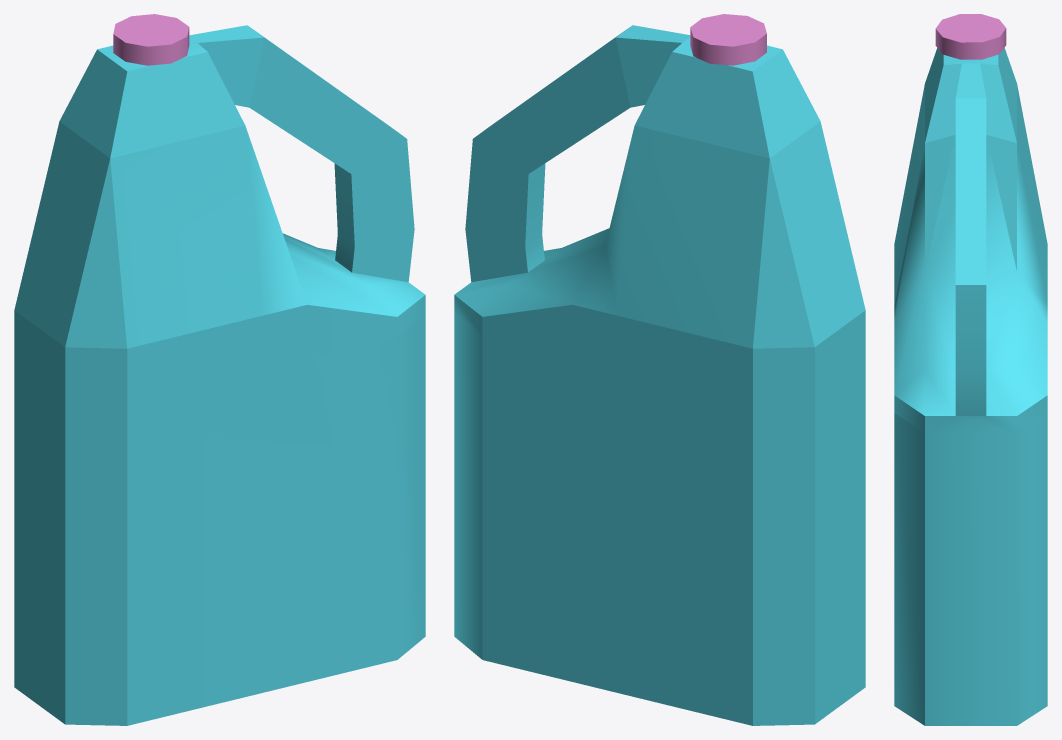
The model's file is clean_bottle.fbx.
3 views of the same model, side by side, from view 1: azimuth 30°, elevation 25°; view 2: azimuth 150°, elevation 25°; view 3: azimuth 270°, elevation 25° (orthographic). The views are drawn at different scales.
Parts seen in each view (by area): view 1: clean_bottle; view 2: clean_bottle; view 3: clean_bottle.
Boxes of the visible parts, left/top/right/bottom form: clean_bottle: left=14, top=14, right=425, bottom=725; clean_bottle: left=454, top=14, right=865, bottom=725; clean_bottle: left=894, top=14, right=1047, bottom=725.
Size of the model in its own units: 28.41 by 48.04 by 11.37.
